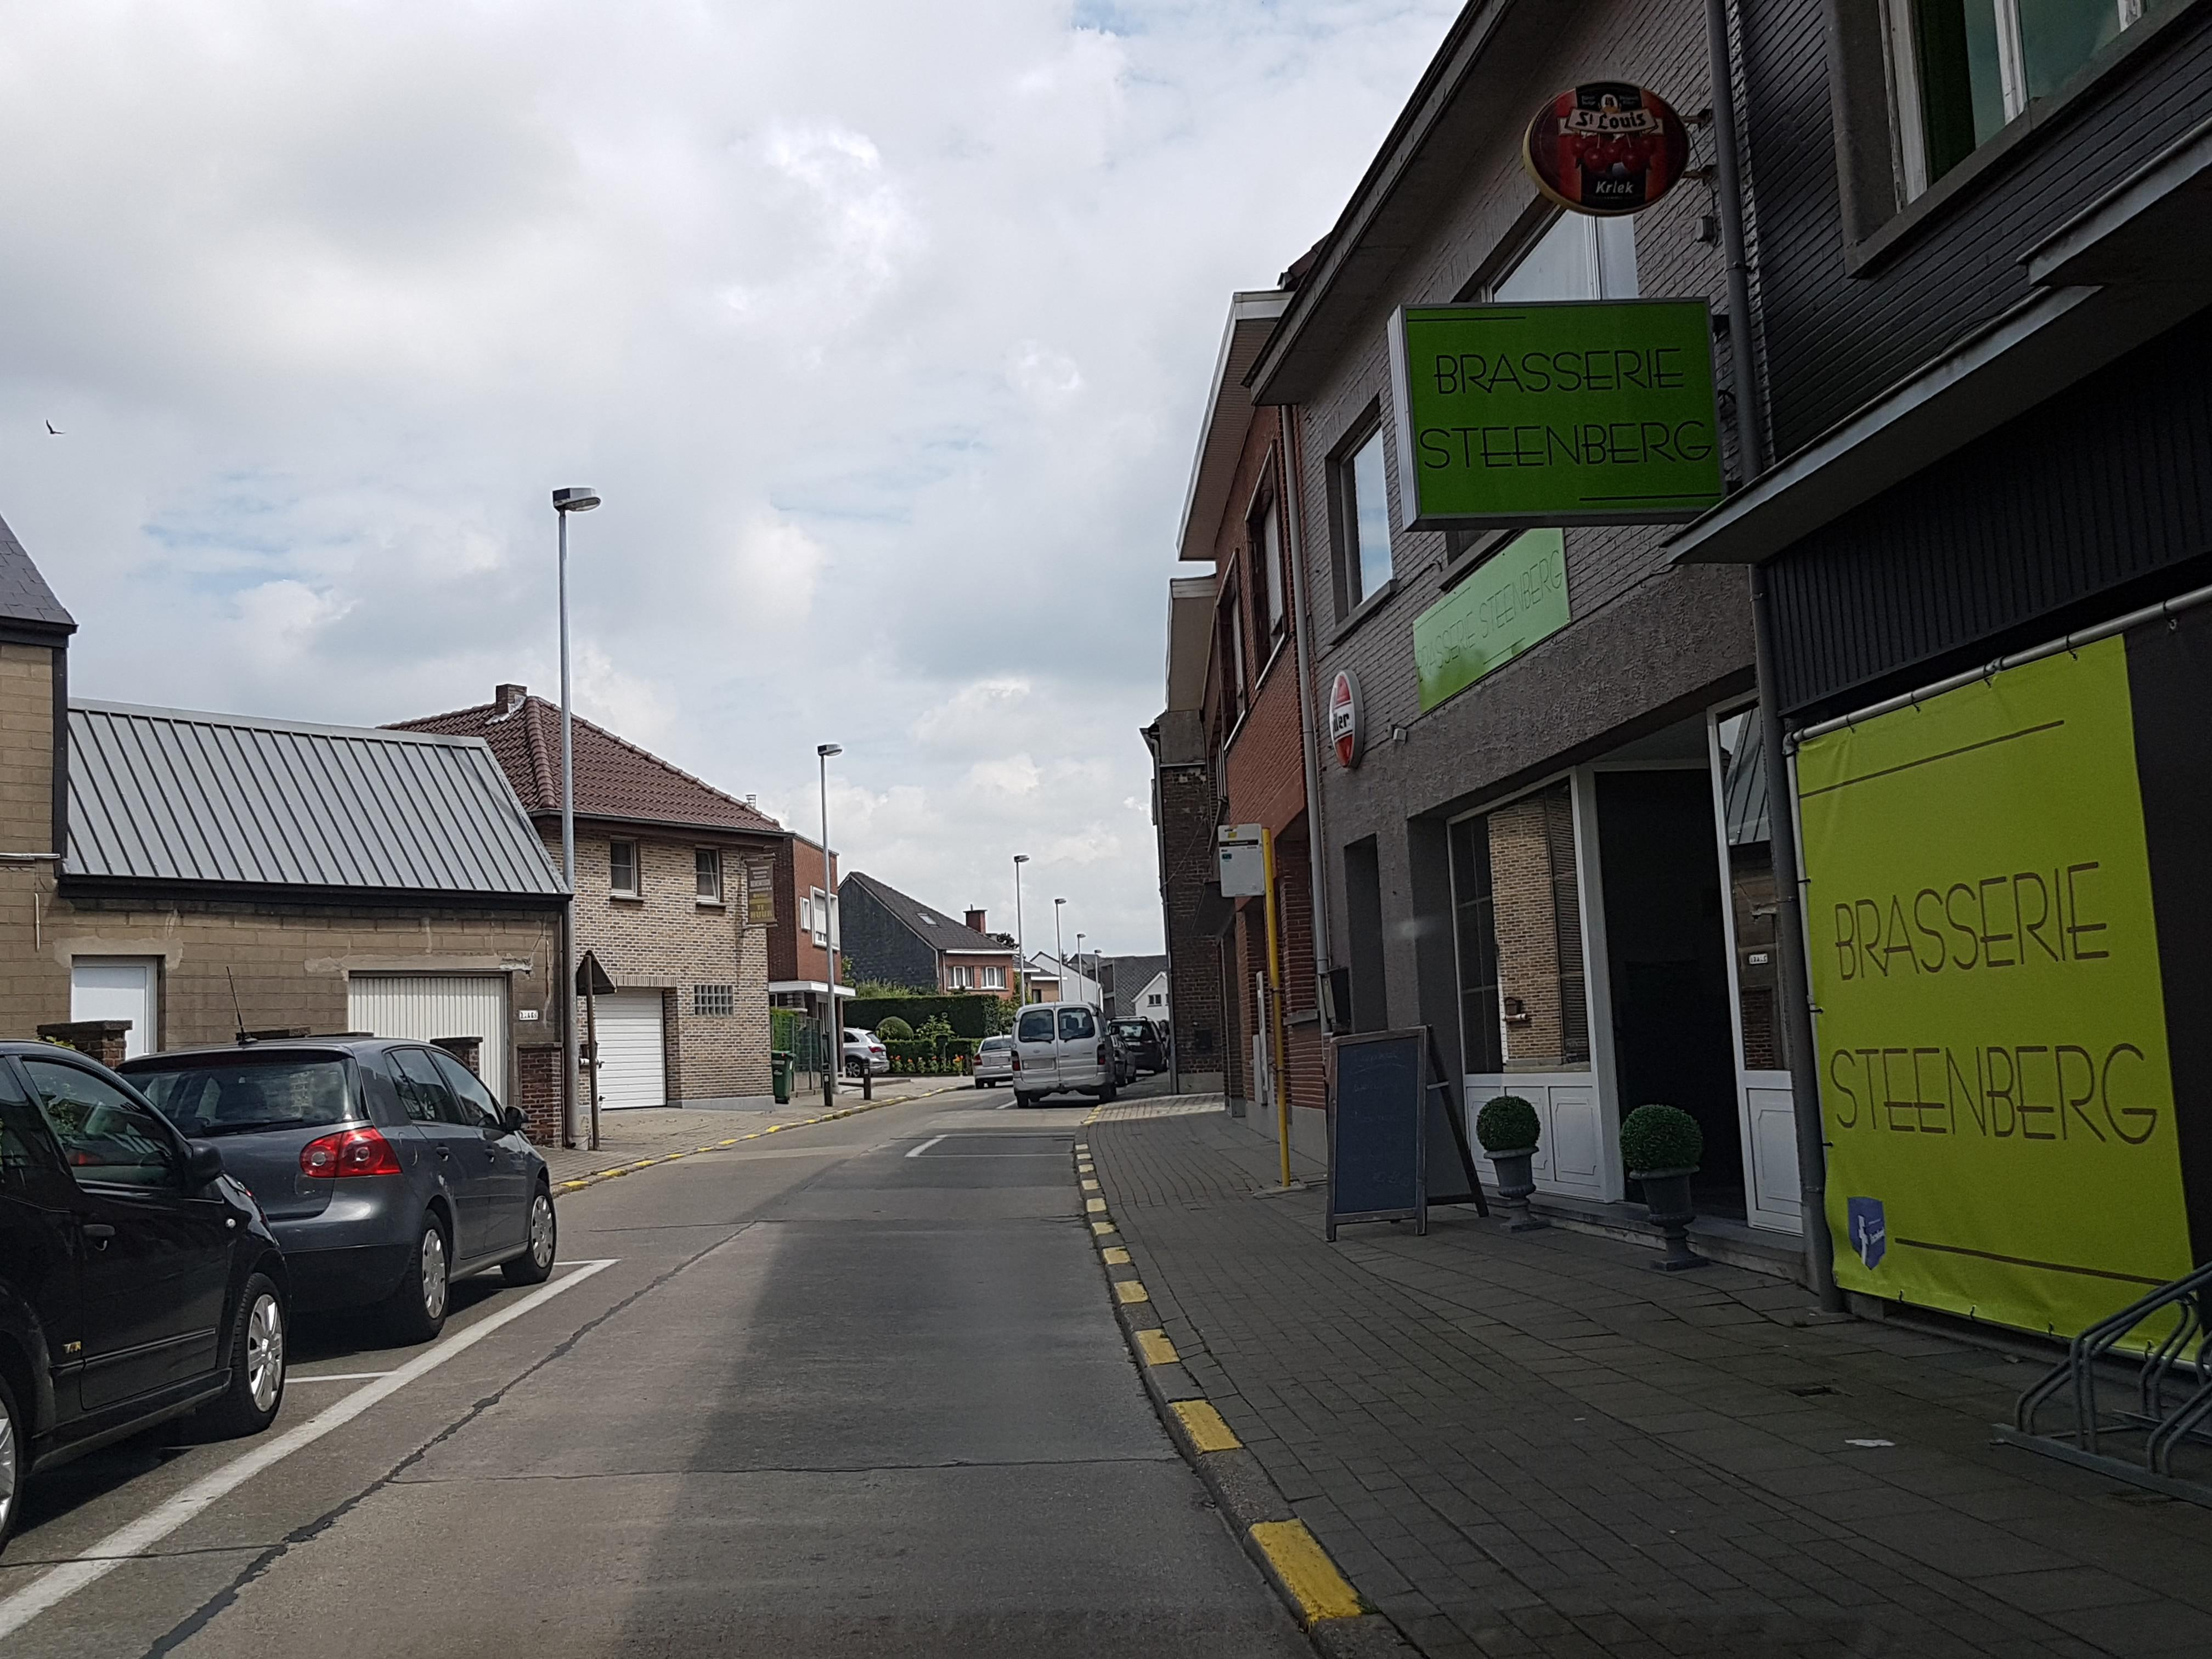vinyl banner: (1794, 565, 2212, 1385)
